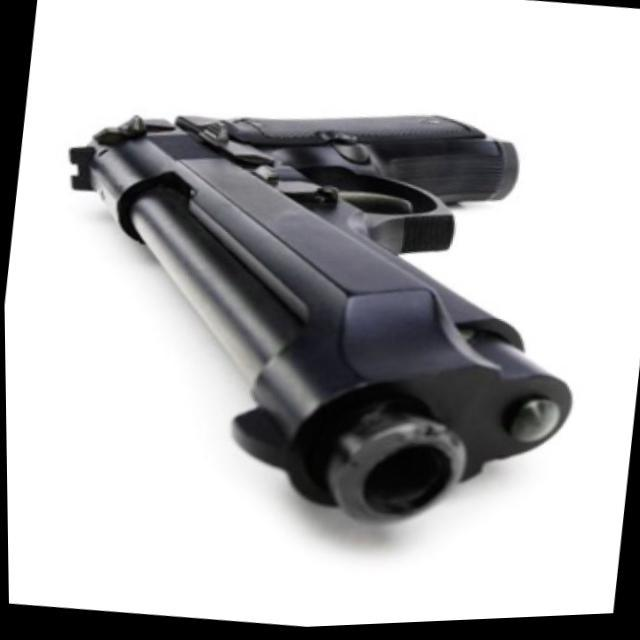weapon: (23, 66, 606, 561)
